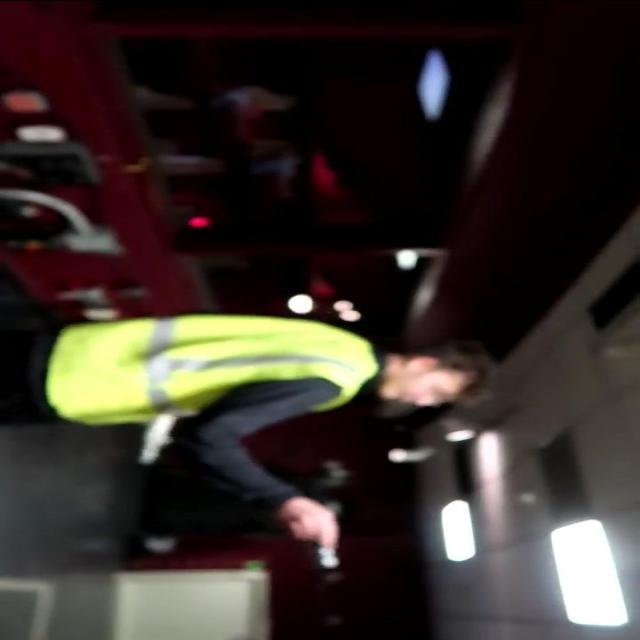helmet: (39, 312, 383, 428)
